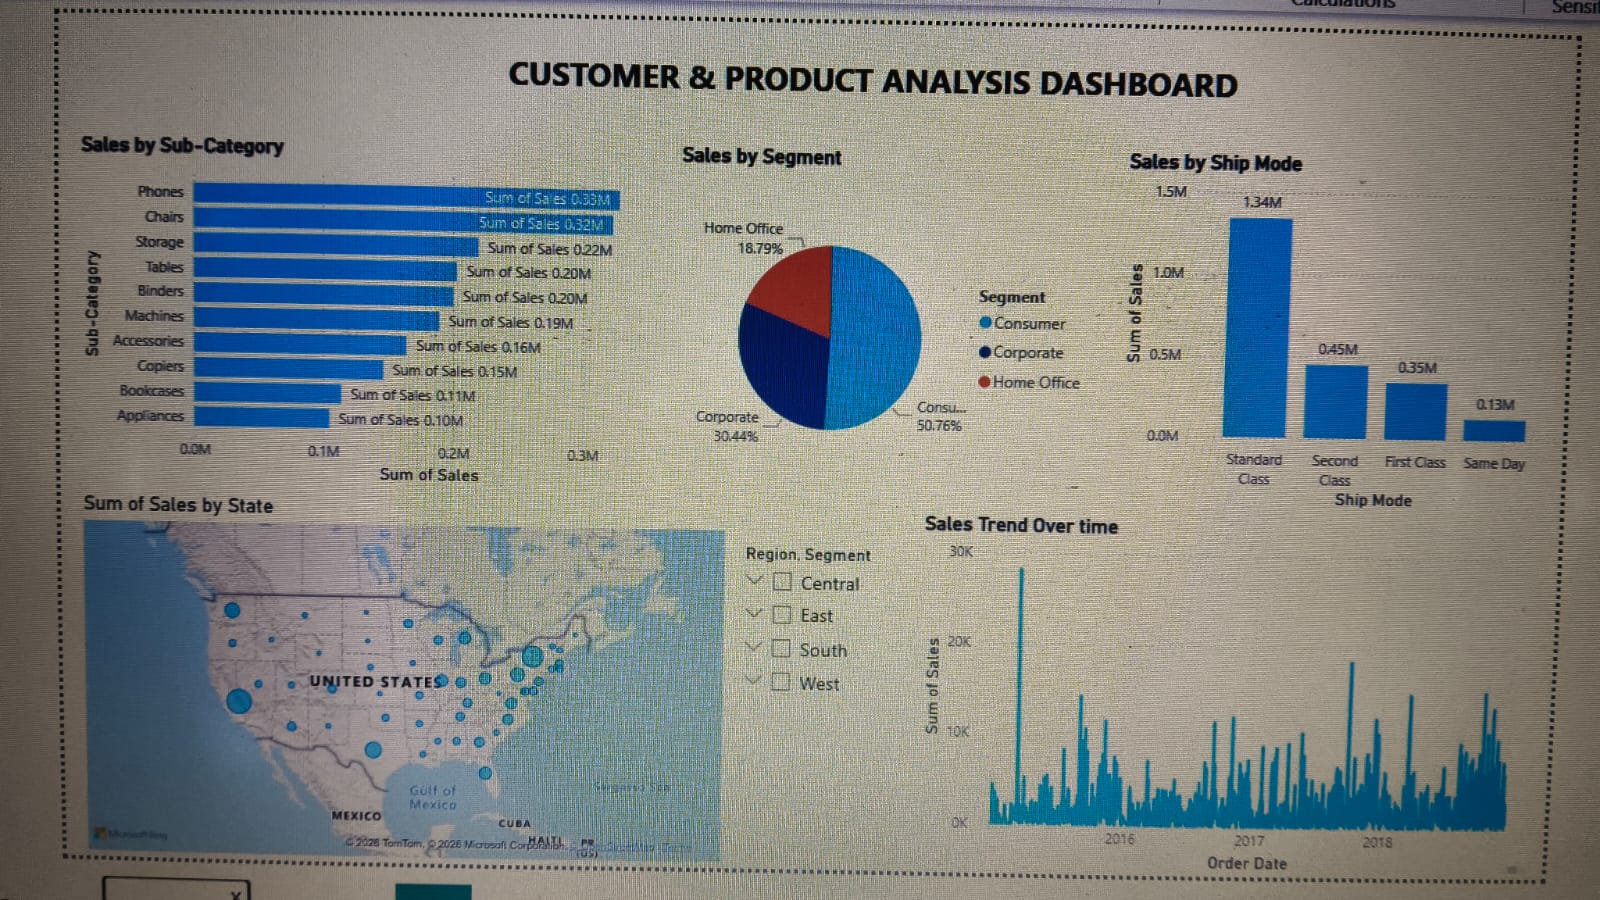

Layout of this report page (visuals, bound fields, positions):
{"tool":"powerbi","page":{"name":"Page 2","canvas":[1280,720],"ordinal":1},"visuals":[{"type":"clusteredBarChart","title":"Sales by Sub-Category","fields":{"Category":["train.Sub-Category"],"Y":["Sum(train.Sales)"]},"box":[14.3,100,525,296.4],"z":0},{"type":"pieChart","title":"Sales by Segment","fields":{"Category":["train.Segment"],"Y":["Sum(train.Sales)"]},"box":[521.4,100,360.7,303.6],"z":1000},{"type":"columnChart","title":"Sales by Ship Mode","fields":{"Category":["train.Ship Mode"],"Y":["Sum(train.Sales)"]},"box":[898.2,100,382.1,303.6],"z":2000},{"type":"lineChart","title":"Sales Trend Over time","fields":{"Y":["Sum(train.Sales)"],"Category":["train.Order Date"]},"box":[733.9,408.9,528.6,310.7],"z":4000},{"type":"textbox","box":[1057.1,703.6,205.4,16.1],"z":5000},{"type":"textbox","box":[166.1,21.4,1039.3,57.1],"z":6000},{"type":"map","fields":{"Category":["train.State"],"Size":["Sum(train.Sales)"]},"box":[14.3,403.6,557.1,316.1],"z":6001},{"type":"slicer","fields":{"Values":["train.Region","train.Segment"]},"box":[571.4,433.9,162.5,153.6],"z":6002}]}

Visuals, with their boxes on the page's 1280x720 design canvas (x1, y1, x2, y2). These are canvas units, not pixel positions in the 1600x900 screenshot, which may show the page scaled, cropped or inside an application window:
"Sales by Sub-Category" clusteredBarChart: box(14, 100, 539, 396)
"Sales by Segment" pieChart: box(521, 100, 882, 404)
"Sales by Ship Mode" columnChart: box(898, 100, 1280, 404)
"Sales Trend Over time" lineChart: box(734, 409, 1262, 720)
textbox: box(1057, 704, 1262, 720)
textbox: box(166, 21, 1205, 78)
map - train.State x Sum(train.Sales): box(14, 404, 571, 720)
slicer - train.Region x train.Segment: box(571, 434, 734, 588)
